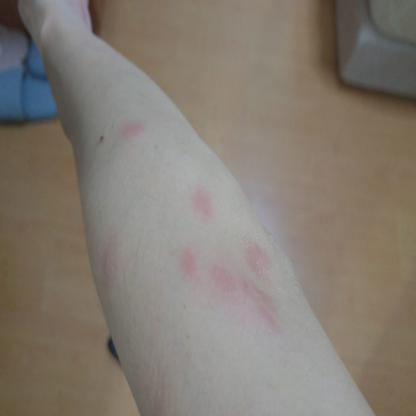Bed Bug: (242, 280, 284, 333), (243, 238, 274, 274), (205, 266, 237, 300), (99, 238, 121, 282), (194, 184, 212, 222), (180, 246, 196, 285), (121, 120, 145, 144)
